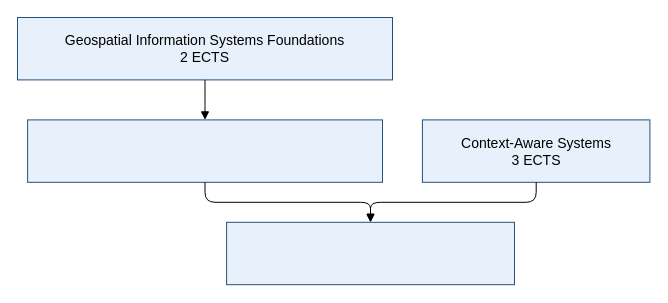
The diagram is 668 pixels wide and 303 high, and some of its shapes have lost their labels. Here are the shapes that lost their labels. From the top down, the centre of each, then its label:
At point (204, 150): "Geospatial Data and Location Applications 3 ECTS".
At point (370, 253): "Context-Aware Activity Systems 3 ECTS".
